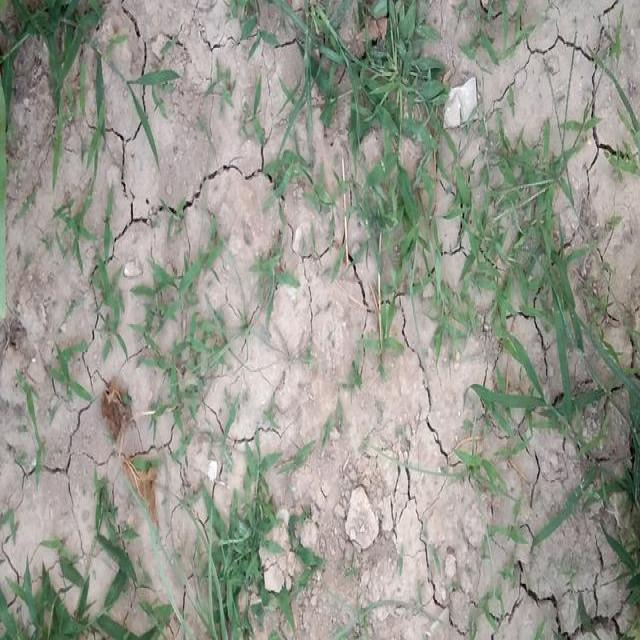weed: (334, 30, 640, 397), (278, 8, 462, 232), (488, 142, 604, 391), (14, 10, 165, 165), (9, 497, 155, 640), (186, 469, 306, 640), (132, 273, 235, 442), (204, 85, 314, 206), (62, 212, 126, 356), (354, 306, 424, 373), (459, 447, 502, 490), (260, 241, 288, 303), (238, 9, 276, 53), (498, 515, 531, 552)
